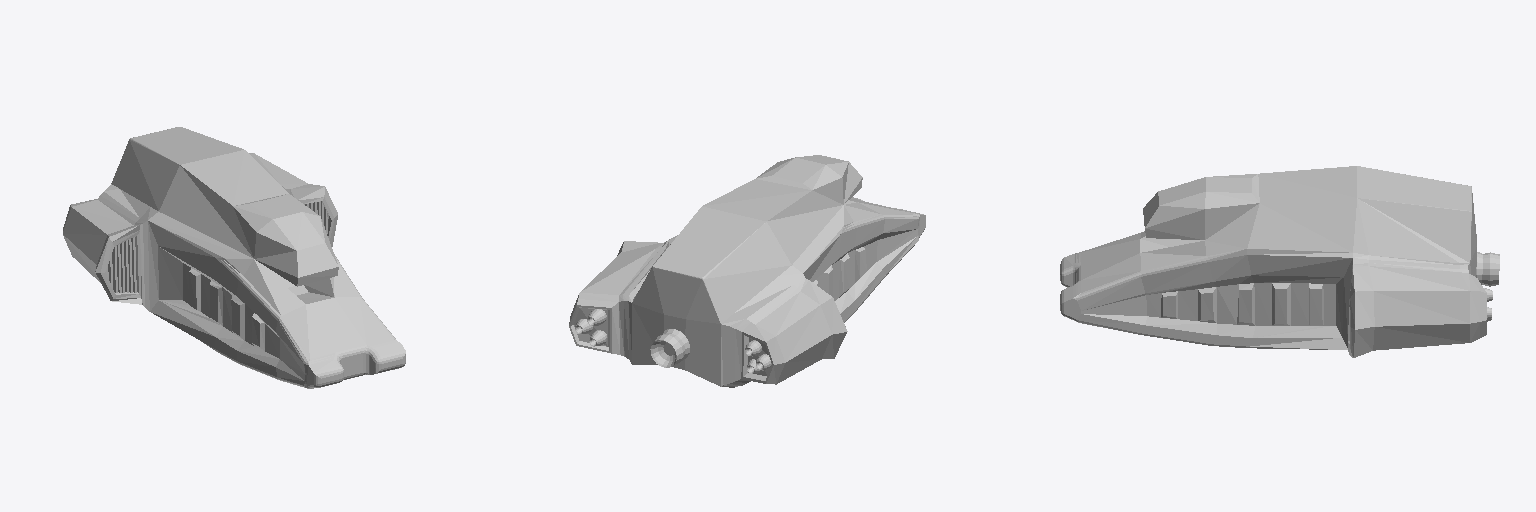
The model's file is NAVE CHATARRERO.obj.
The picture shows the model from 3 angles: view 1: azimuth 30°, elevation 25°; view 2: azimuth 150°, elevation 25°; view 3: azimuth 270°, elevation 25°; orthographic projection.
Visible parts, largest first — view 1: Plane.007; view 2: Plane.007; view 3: Plane.007.
Boxes of the visible parts, x1=… form: Plane.007: x1=63, y1=127, x2=405, y2=388; Plane.007: x1=569, y1=155, x2=925, y2=387; Plane.007: x1=1060, y1=166, x2=1499, y2=357.
Size of the model in its own units: 7.53 by 4.3 by 11.92.